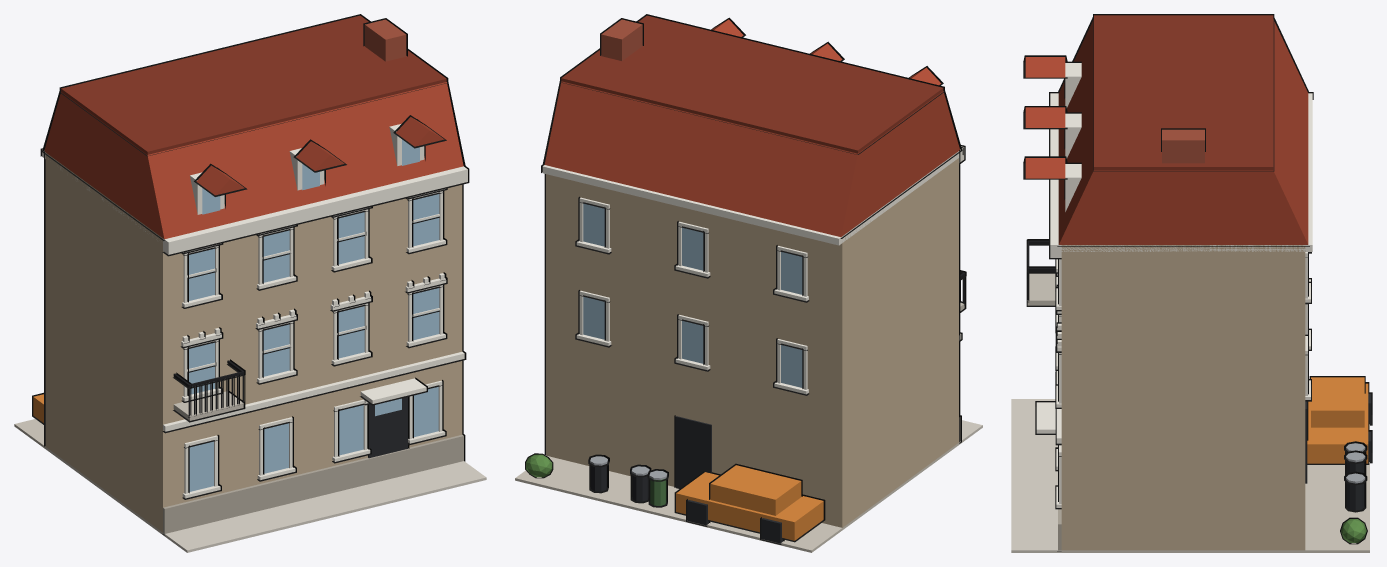
File: Blok_duz_3k_3.fbx
3 renders of one model, left to right at view 1: azimuth 30°, elevation 25°; view 2: azimuth 150°, elevation 25°; view 3: azimuth 270°, elevation 25°, orthographic. The views are drawn at different scales.
Parts seen in each view (by area): view 1: Blok_duz_3k_3; view 2: Blok_duz_3k_3; view 3: Blok_duz_3k_3.
Boxes of the visible parts, left/top/right/bottom form: Blok_duz_3k_3: left=14, top=14, right=486, bottom=552; Blok_duz_3k_3: left=515, top=14, right=982, bottom=552; Blok_duz_3k_3: left=1011, top=14, right=1372, bottom=552.
Size of the model in its own units: 10.1 by 12.61 by 10.07.
